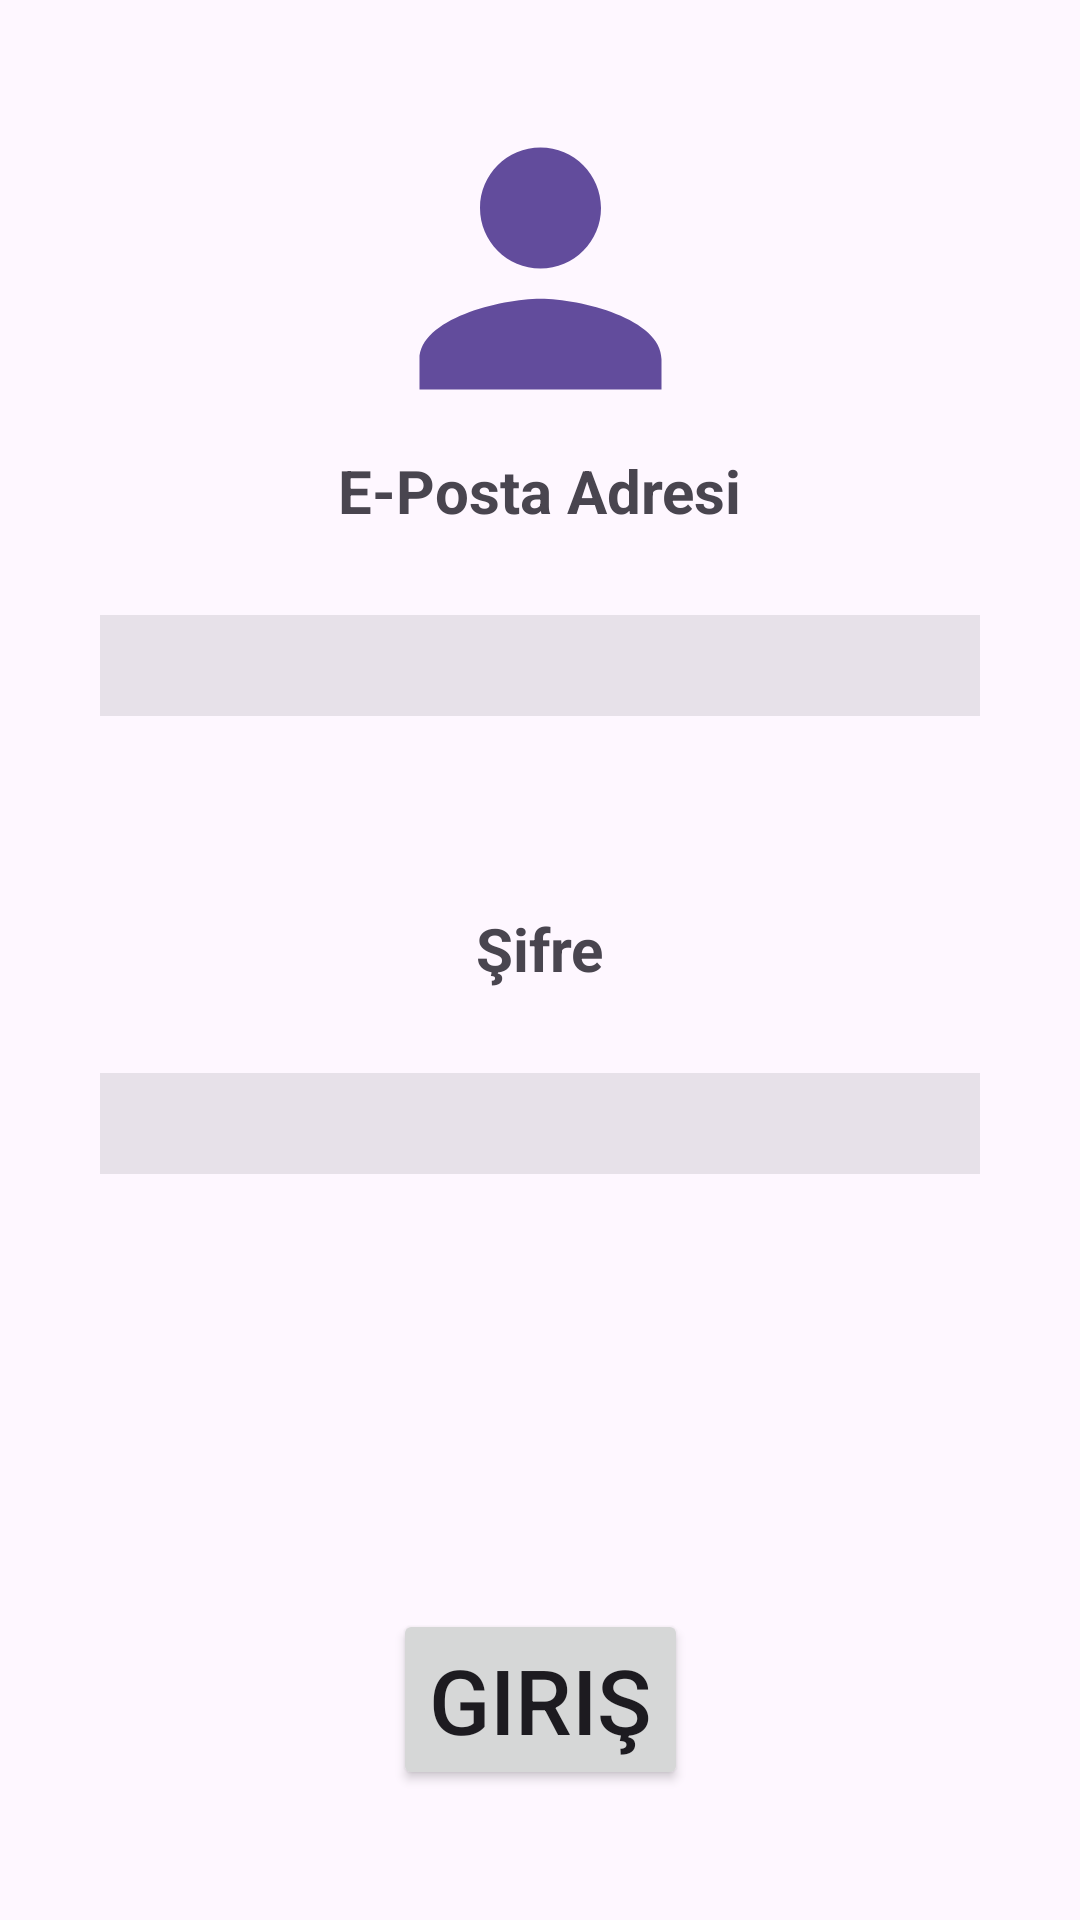

Locate icon controls on the screen. Image size 1080x1920, boxes as Rect(x1, y1, x2, y2).
person: Rect(419, 147, 662, 390)
